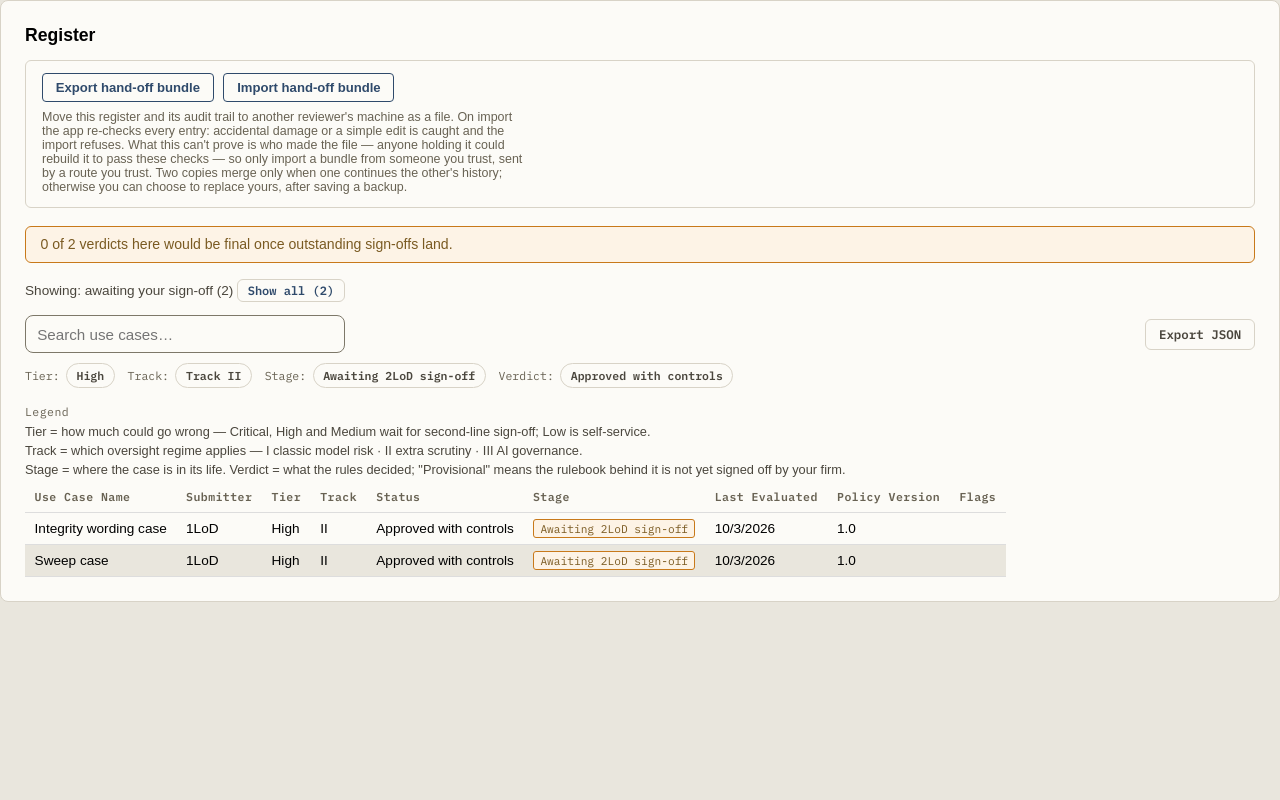
Test: Integrity wording sweep — CR8-04 (P5) › TC-CR8-04d: the register detail, the result reviewer section and the About page carry no over-claim
Click the button "Sweep case".
click(72, 560)  # box [35,553,109,568]
(page scrolled)
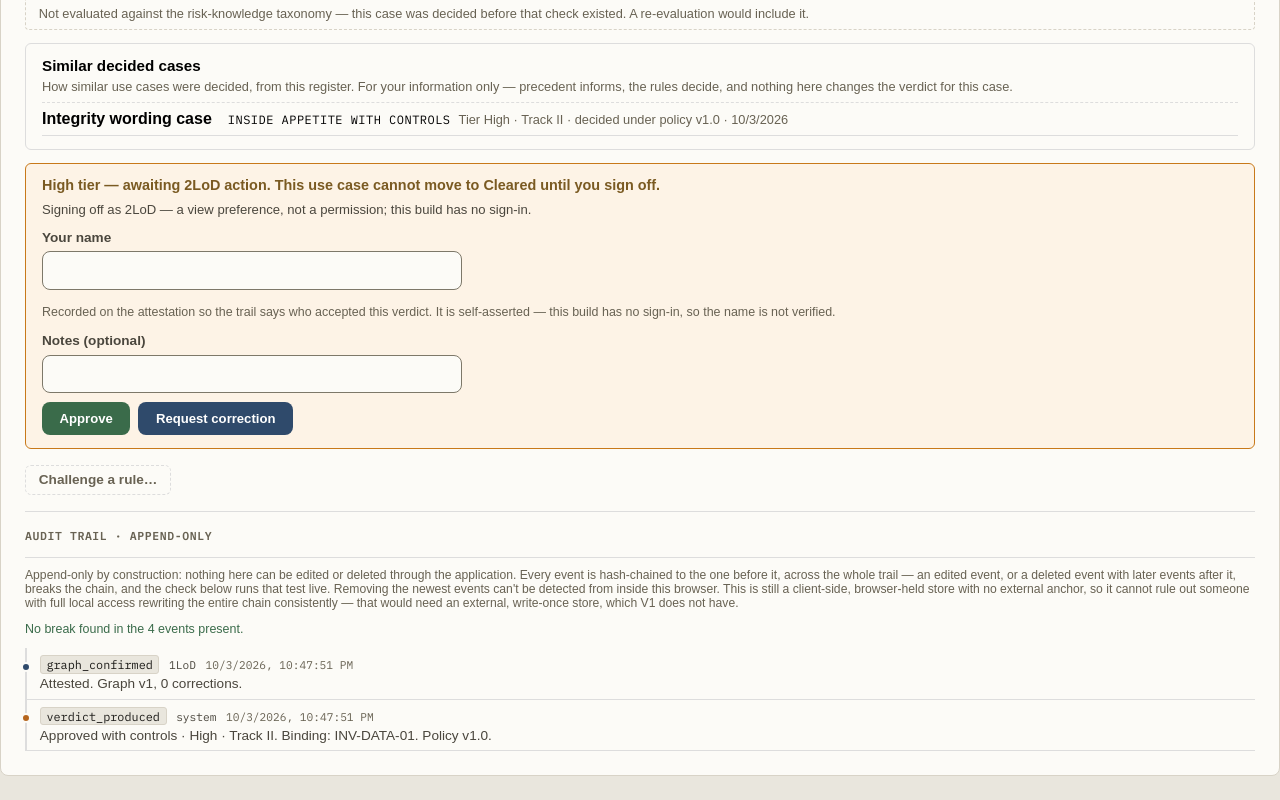
expect the text "No break found in the 4 events present." is shown: met, box [25,622,243,636]
